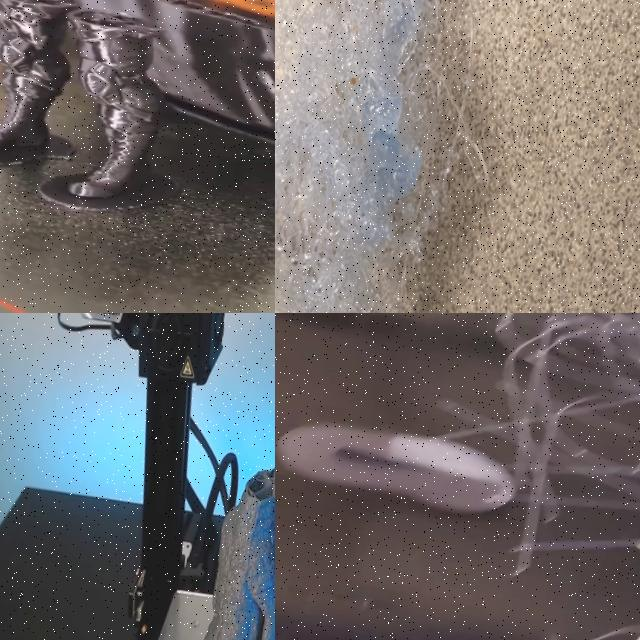spaghetti: (370, 313, 640, 598), (275, 0, 463, 313)
